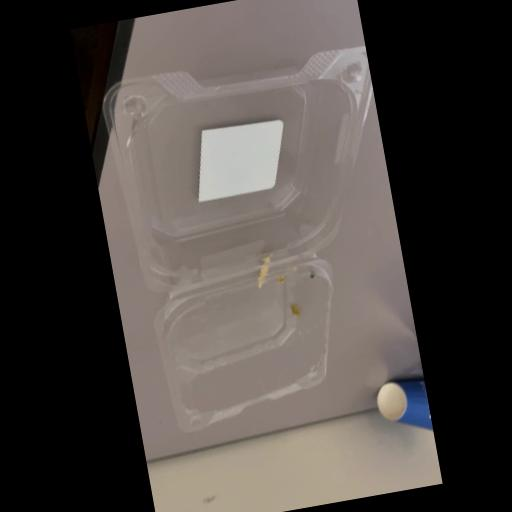lp_paper_cup: (372, 372, 434, 444)
small_plastic_container: (102, 43, 422, 432)
